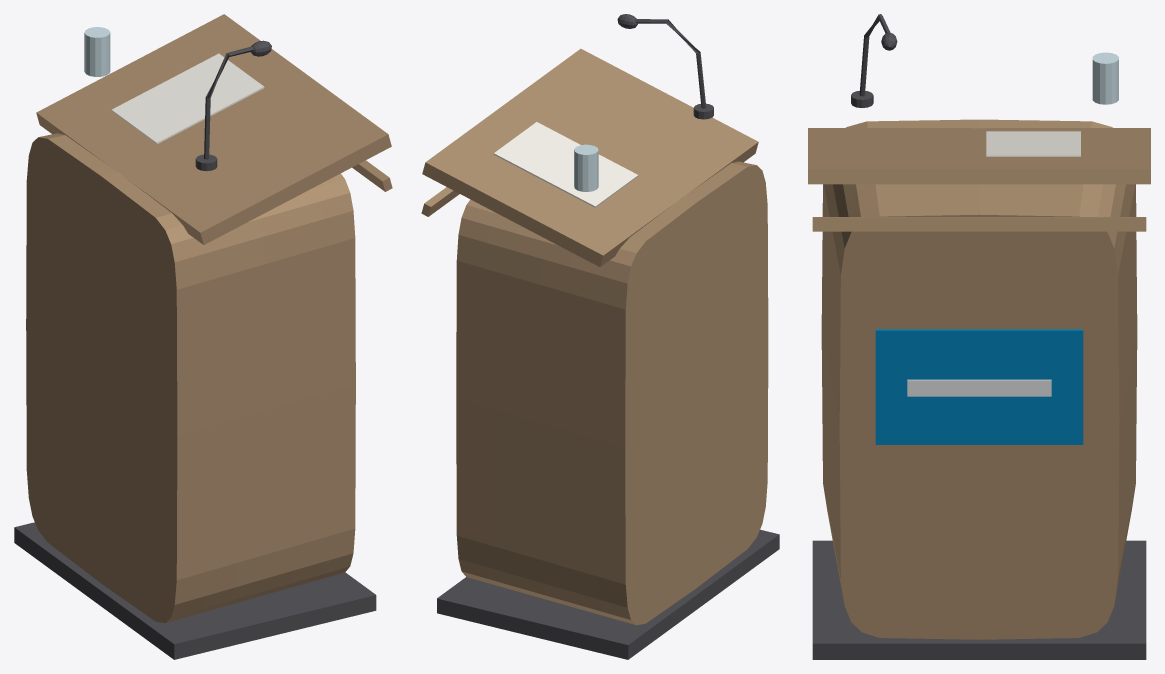
File: SM_Prop_Lectern.fbx
The picture shows the model from 3 angles, left to right: view 1: azimuth 30°, elevation 25°; view 2: azimuth 150°, elevation 25°; view 3: azimuth 270°, elevation 25°; orthographic projection. The views are drawn at different scales.
Parts seen in each view (by area): view 1: SM_Prop_Lectern; view 2: SM_Prop_Lectern; view 3: SM_Prop_Lectern.
Part boxes in pixels (bbox=[...]): SM_Prop_Lectern: bbox=[14, 14, 392, 659]; SM_Prop_Lectern: bbox=[421, 14, 779, 659]; SM_Prop_Lectern: bbox=[808, 14, 1150, 659].
Size of the model in its own units: 0.76 by 0.5835 by 1.43.
